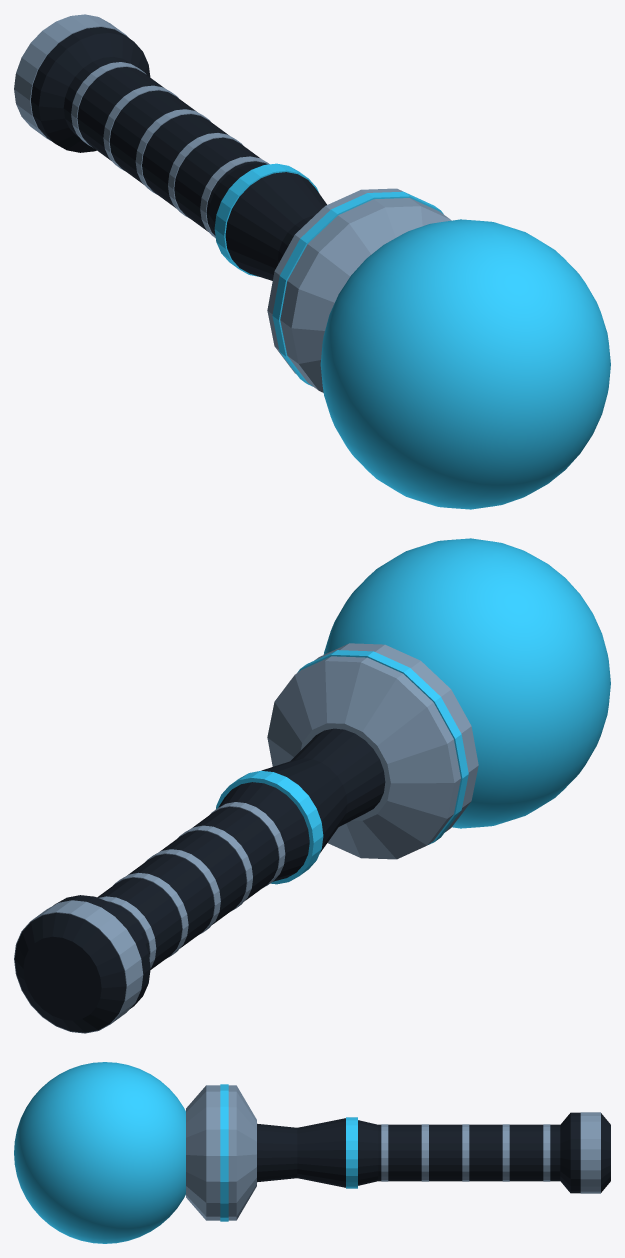
The model's file is SM_StellarDiffusion.obj.
The picture shows the model from 3 angles, top to bottom: view 1: azimuth 30°, elevation 25°; view 2: azimuth 150°, elevation 25°; view 3: azimuth 270°, elevation 25°; orthographic projection. The views are drawn at different scales.
Parts seen in each view (by area): view 1: SM_StellarDiffusion; view 2: SM_StellarDiffusion; view 3: SM_StellarDiffusion.
Part boxes in pixels (<box>): SM_StellarDiffusion: <box>14,14,610,509</box>; SM_StellarDiffusion: <box>14,538,610,1033</box>; SM_StellarDiffusion: <box>14,1062,610,1243</box>.
Bounding box in the file's own units: 18 × 18 × 59.
